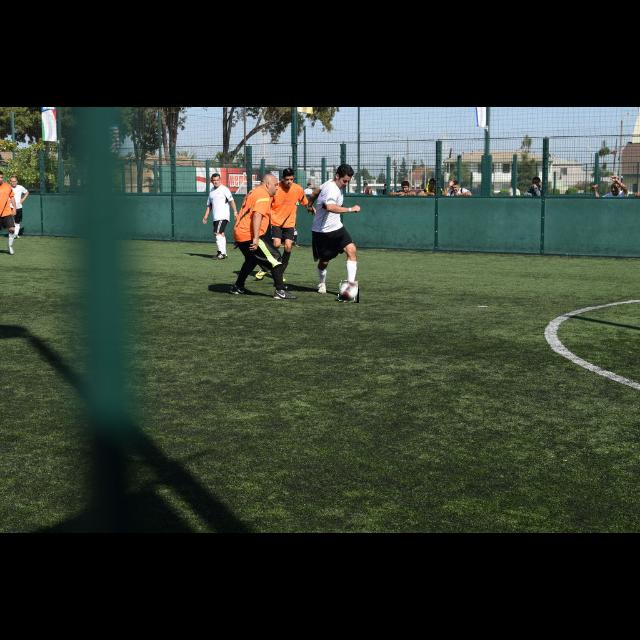Football: (339, 281, 359, 303)
